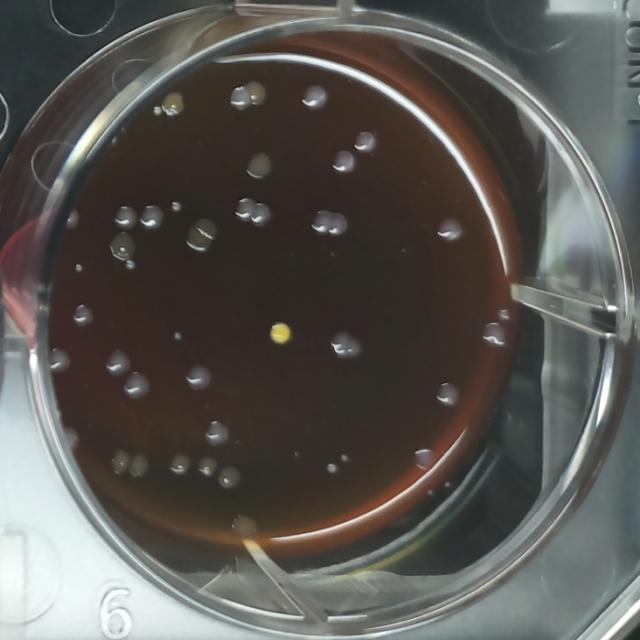Acinetobacter: (328, 327, 365, 363), (121, 367, 153, 403), (183, 362, 214, 396), (434, 214, 466, 246), (202, 416, 232, 450), (298, 81, 329, 113), (480, 319, 510, 352), (102, 347, 132, 378), (433, 379, 462, 411), (138, 202, 167, 233), (45, 346, 74, 376), (330, 147, 358, 178), (410, 444, 439, 473), (111, 203, 139, 233), (231, 194, 258, 223), (70, 302, 97, 330), (248, 200, 274, 229), (353, 128, 377, 156), (326, 210, 349, 238), (230, 85, 251, 113), (309, 208, 332, 233), (62, 210, 82, 235)
Staphylococcus: (169, 198, 184, 216), (150, 103, 165, 119), (122, 259, 138, 274), (172, 328, 186, 343), (324, 461, 338, 476), (73, 261, 85, 274), (338, 452, 351, 464)
Vagococcus: (183, 215, 220, 254), (241, 149, 275, 182), (228, 510, 261, 542), (108, 231, 137, 262), (217, 463, 243, 492), (167, 450, 192, 478), (244, 78, 268, 106), (162, 91, 186, 117), (109, 448, 131, 476), (128, 452, 150, 479), (196, 453, 218, 479)
